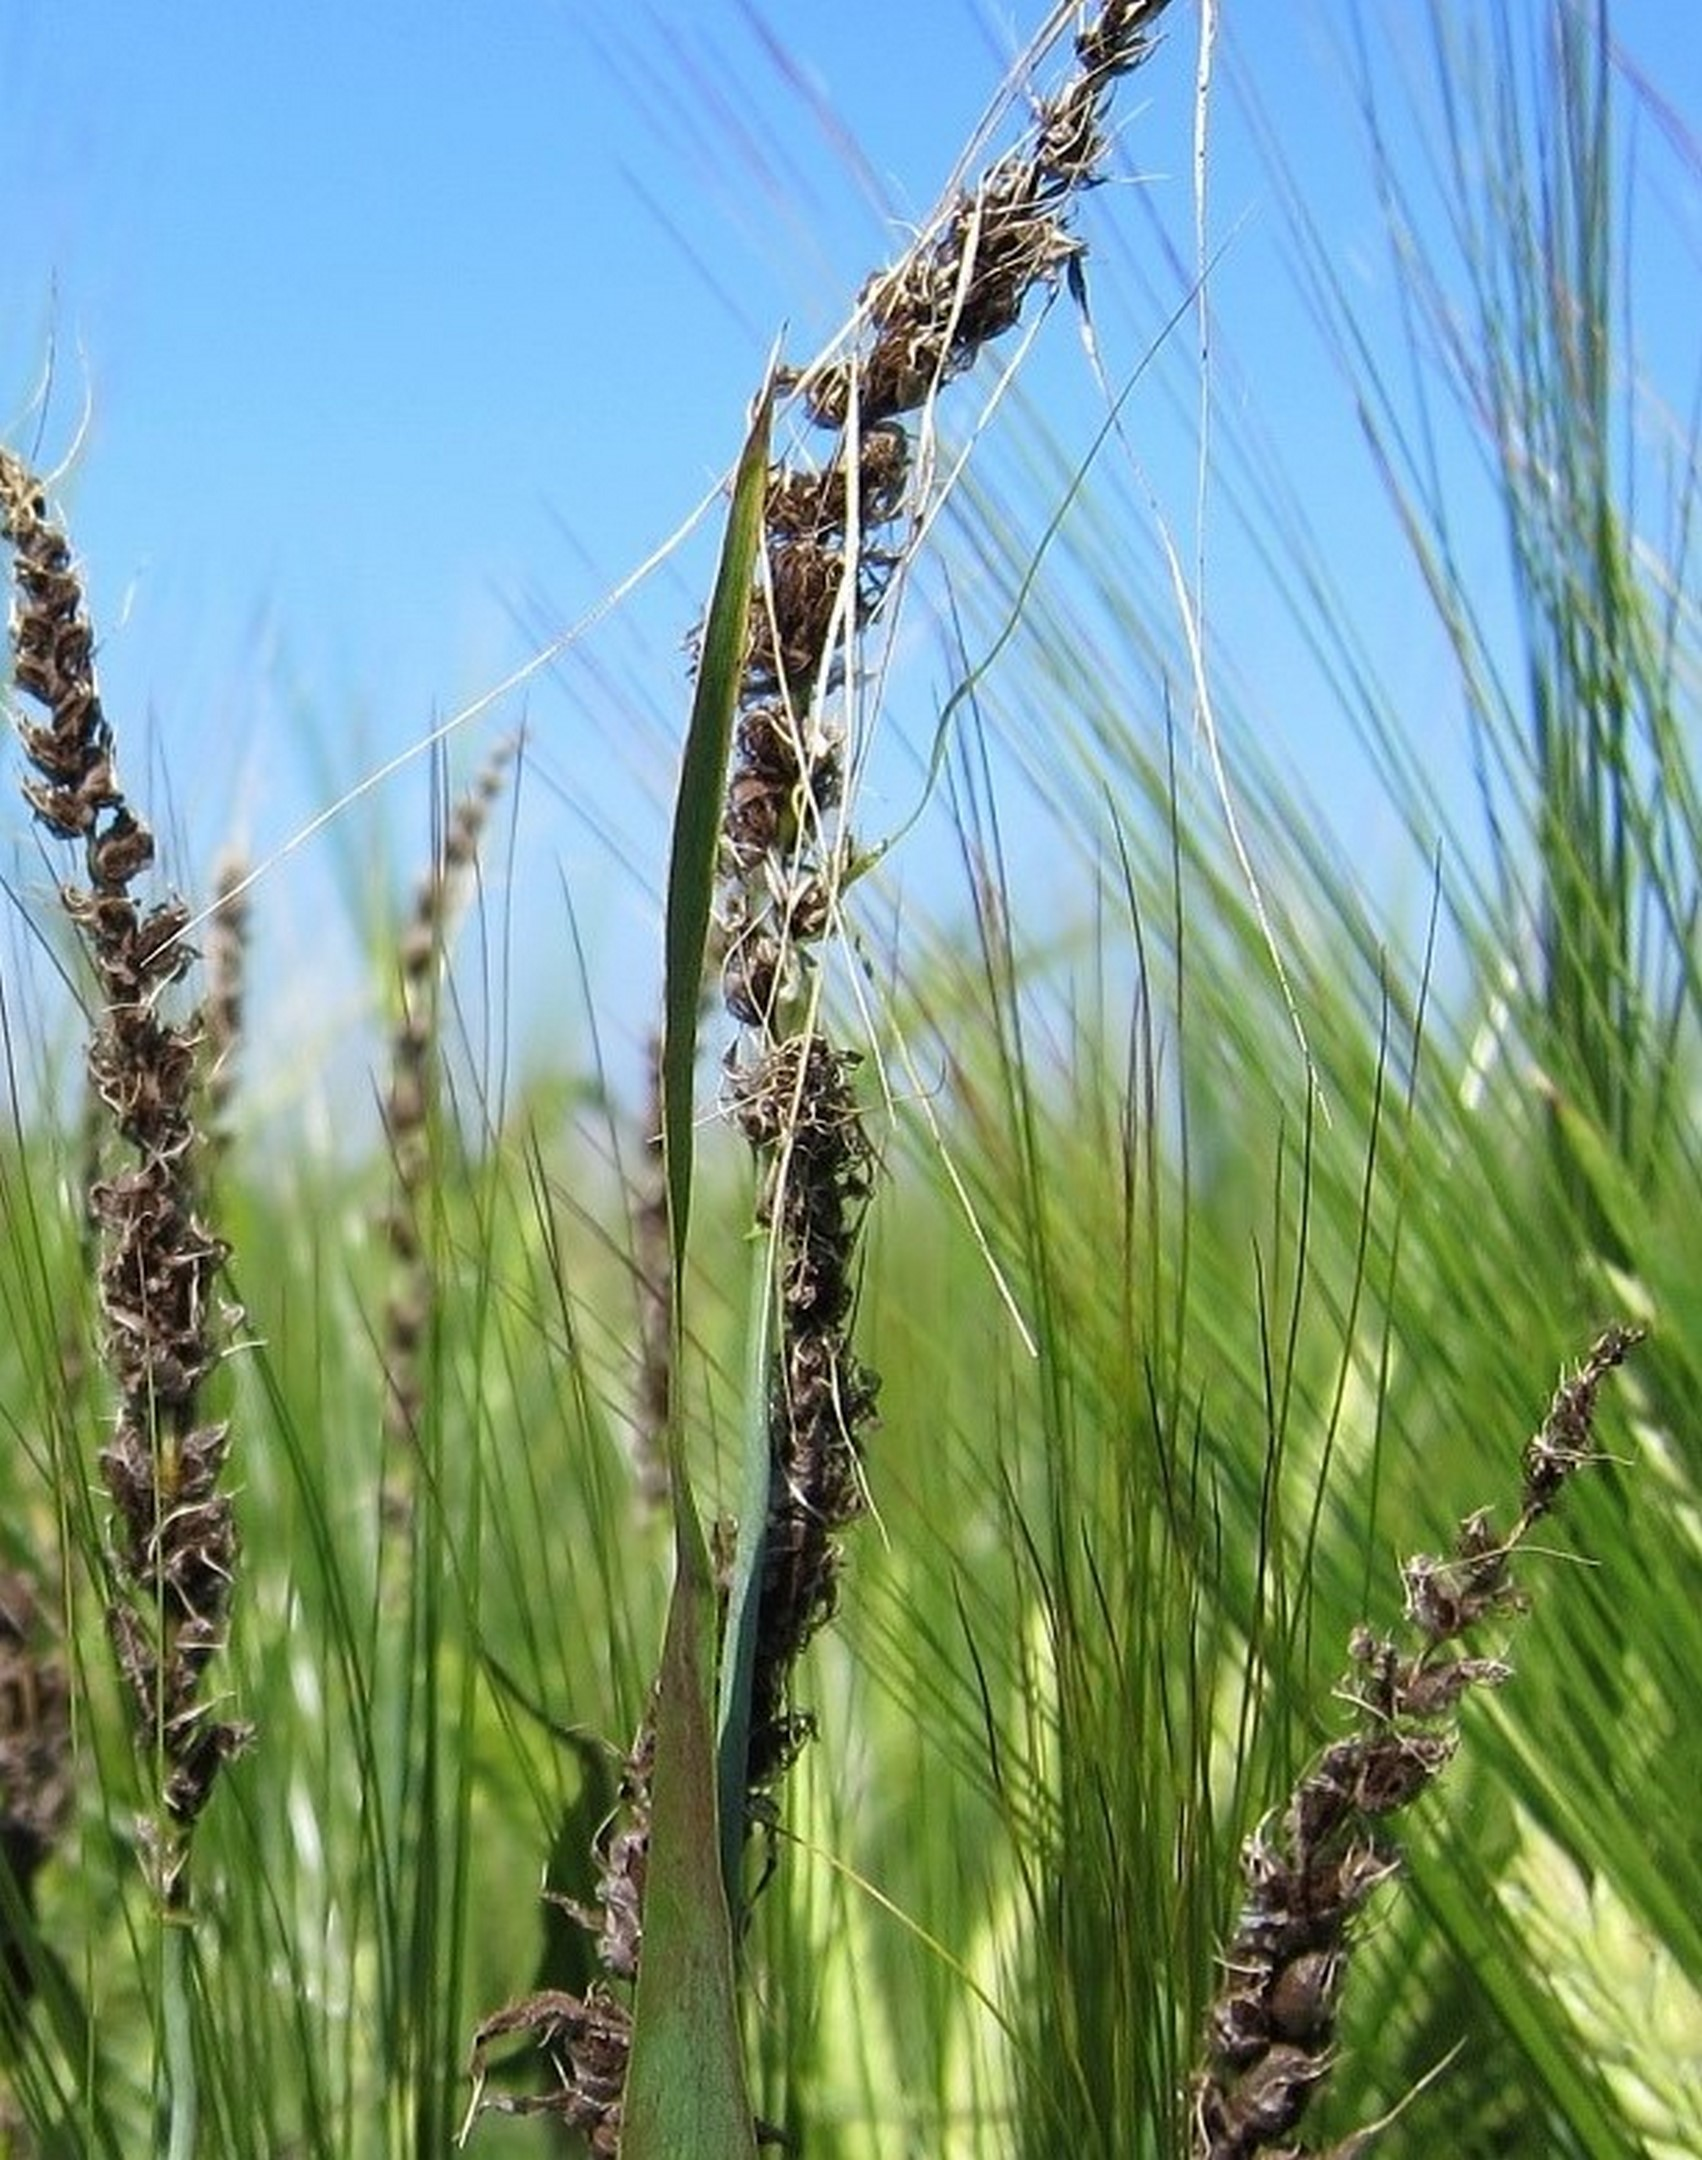Wheat Loose Smut: (710, 53, 1157, 970), (16, 519, 307, 1660)
